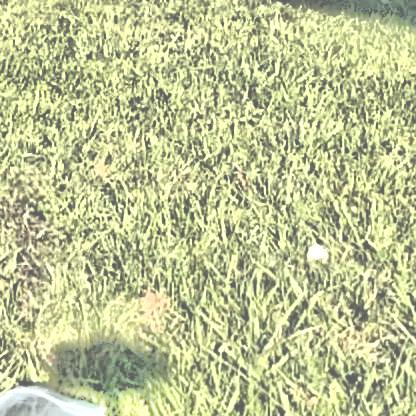golfball: (302, 240, 325, 259)
